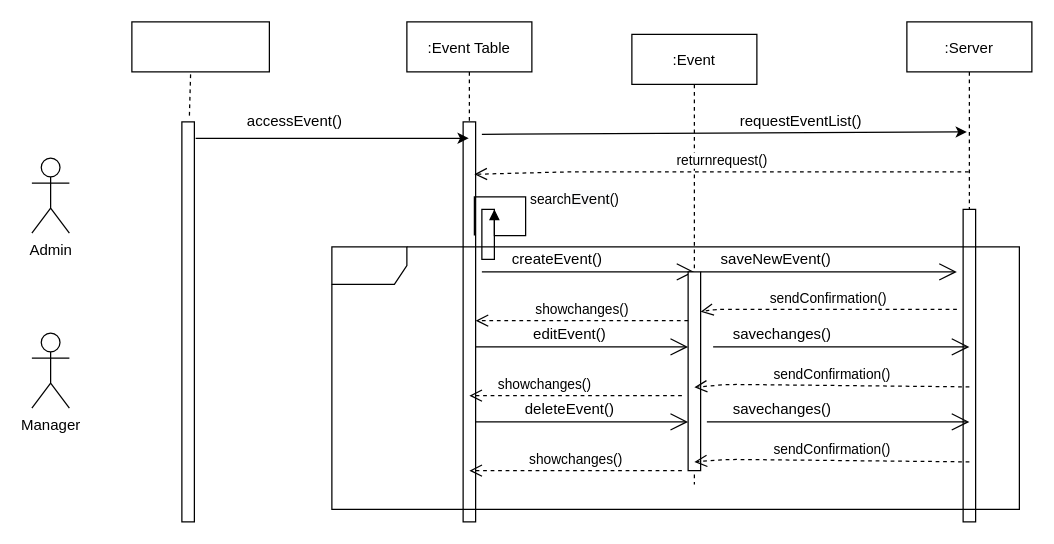
Some shapes in this 1054 by 544 pixel diagram are drawn without their labels. The shapes that lost their labels are listed below. From the top down, each one's box as (x1, y1, x2, y2) in pixels, then its label:
(131, 21, 269, 72): :User Page
(331, 246, 1019, 509): alt
